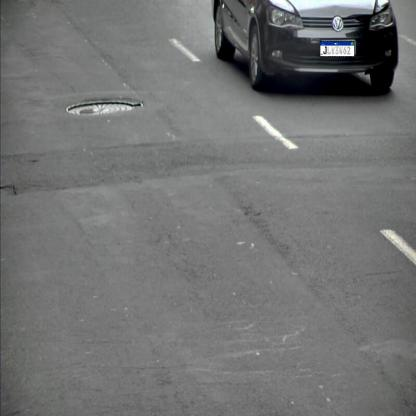PlacaM: (320, 41, 354, 57)
